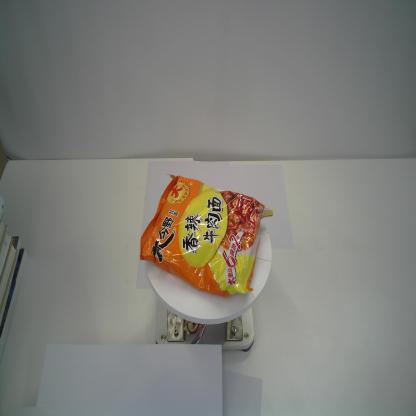Instant Noodles: (138, 172, 274, 299)
